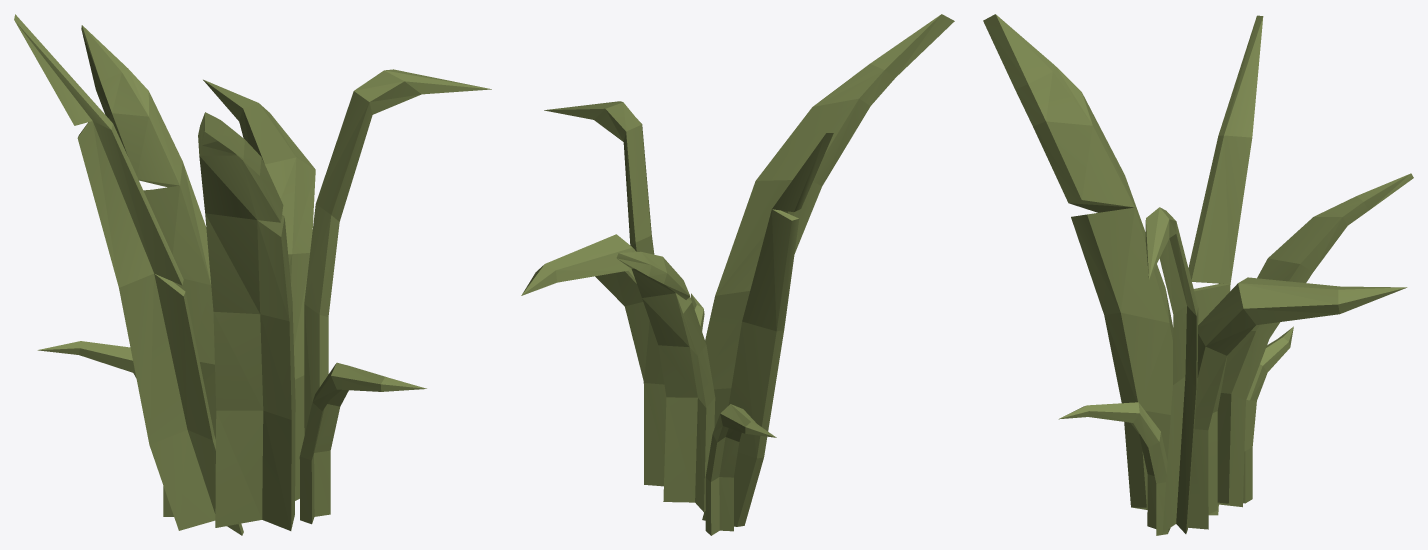
File: Grass.fbx
The picture shows the model from 3 angles, left to right: view 1: azimuth 30°, elevation 25°; view 2: azimuth 150°, elevation 25°; view 3: azimuth 270°, elevation 25°; orthographic projection. The views are drawn at different scales.
Visible parts, largest first — view 1: PP_Grass_11.055; view 2: PP_Grass_11.055; view 3: PP_Grass_11.055.
Boxes of the visible parts, x1,y1,x2,y2 form: PP_Grass_11.055: (14,14,491,535); PP_Grass_11.055: (521,14,954,535); PP_Grass_11.055: (983,14,1413,535).
Size of the model in its own units: 4.67 by 5.84 by 5.17.
